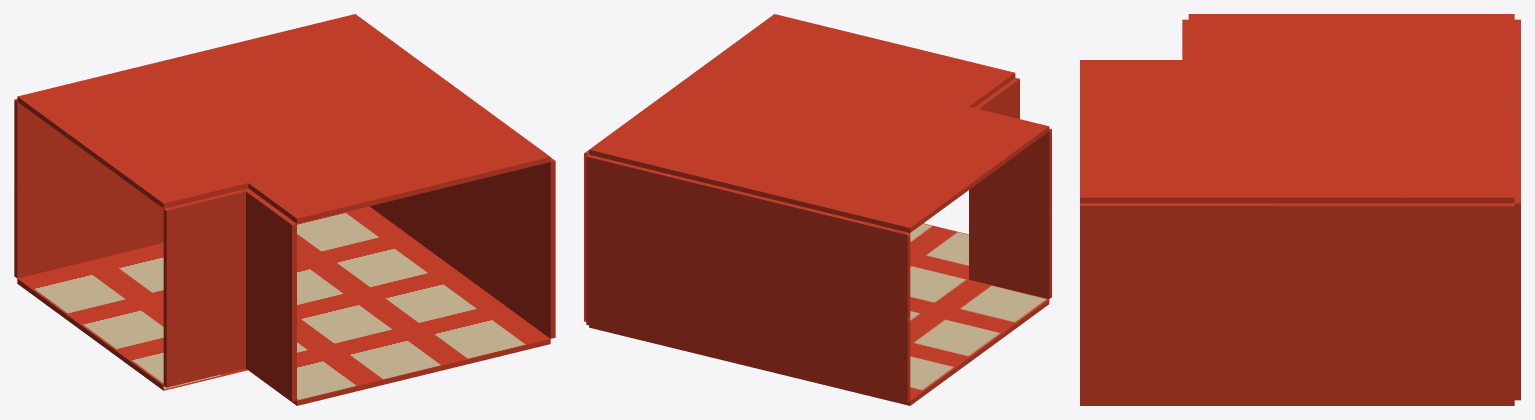
File: ConexaoL.fbx
3 renders of one model, left to right at view 1: azimuth 30°, elevation 25°; view 2: azimuth 150°, elevation 25°; view 3: azimuth 270°, elevation 25°, orthographic. The views are drawn at different scales.
Visible parts, largest first — view 1: ConexaoL; view 2: ConexaoL; view 3: ConexaoL.
Boxes of the visible parts, x1,y1,x2,y2 form: ConexaoL: [14, 14, 555, 405]; ConexaoL: [584, 14, 1051, 405]; ConexaoL: [1080, 14, 1520, 405].
Size of the model in its own units: 812 by 423 by 812.
